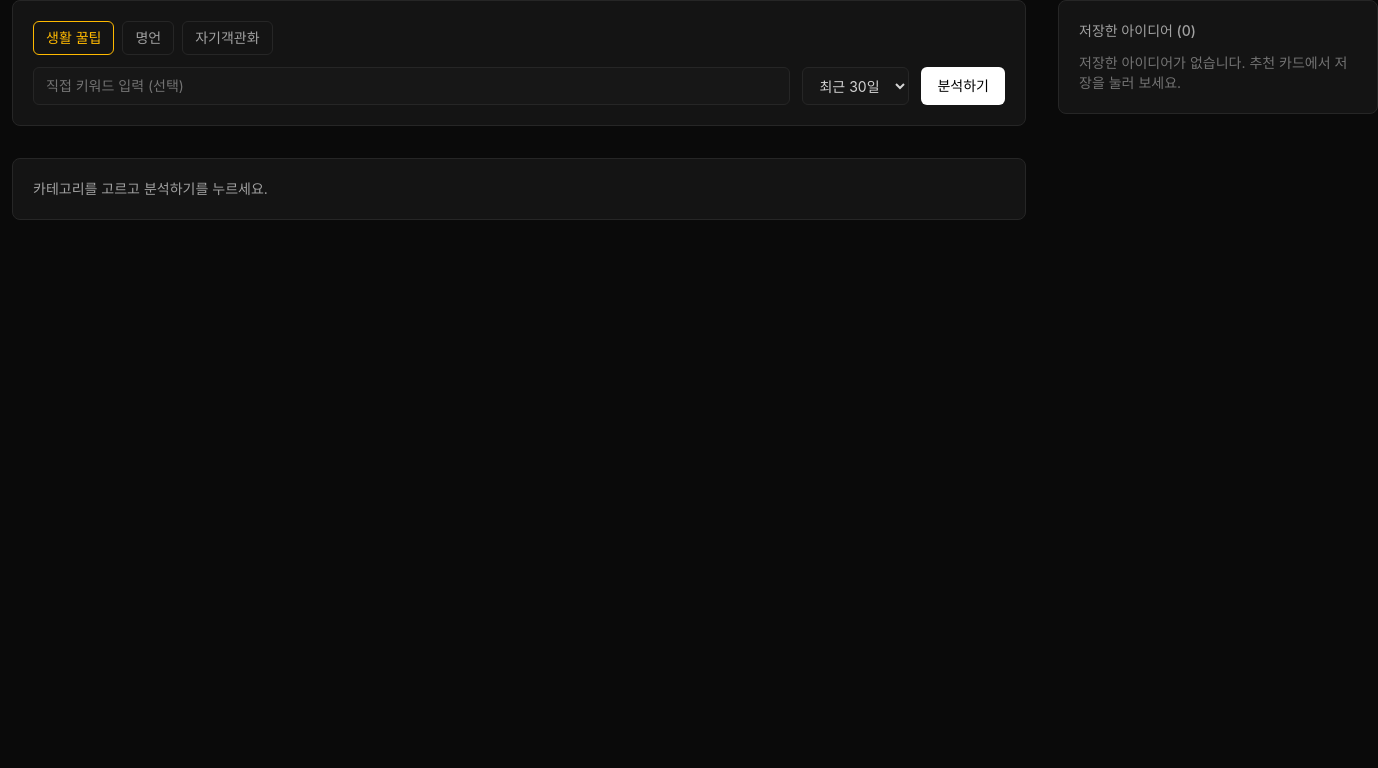
Test: Dashboard › 검색 › 직접 입력한 키워드는 q로 보낸다
The image size is (1378, 768).
Type " 아침루틴 " into the field labelled "직접 키워드" at (412, 86), box [33,67,790,105]
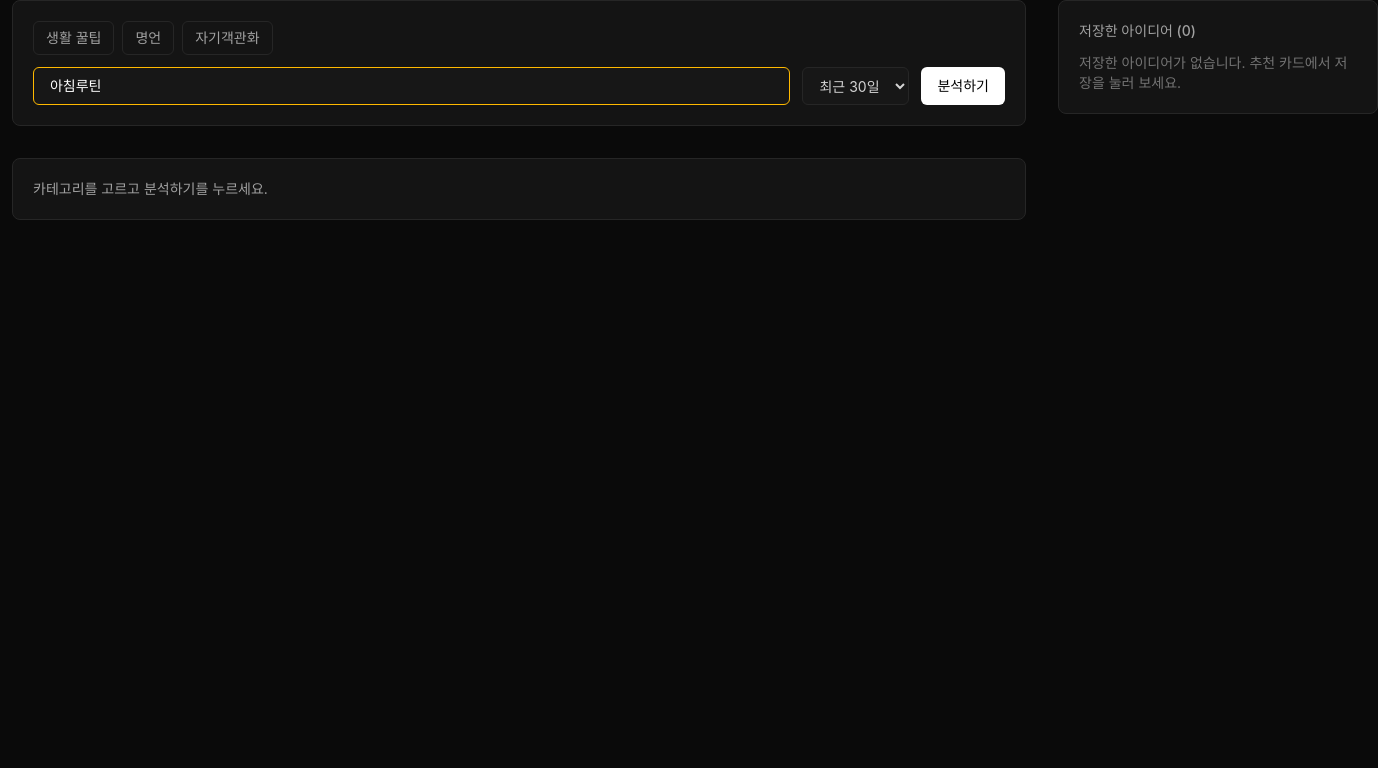
Select "최근 7일" in the dropdown named "기간" at (856, 86), box [802,67,910,105]
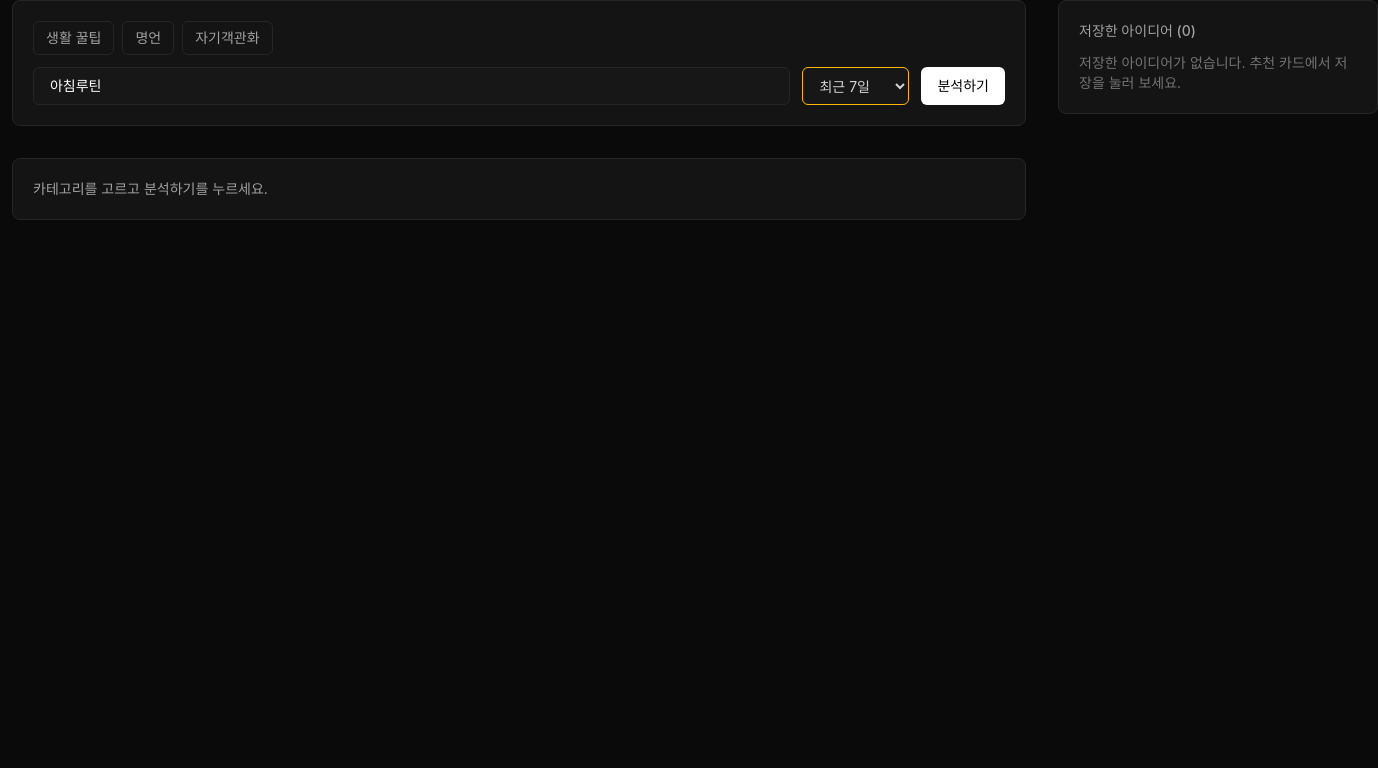
Click the button "분석하기" at (963, 86), box [922,67,1005,105]
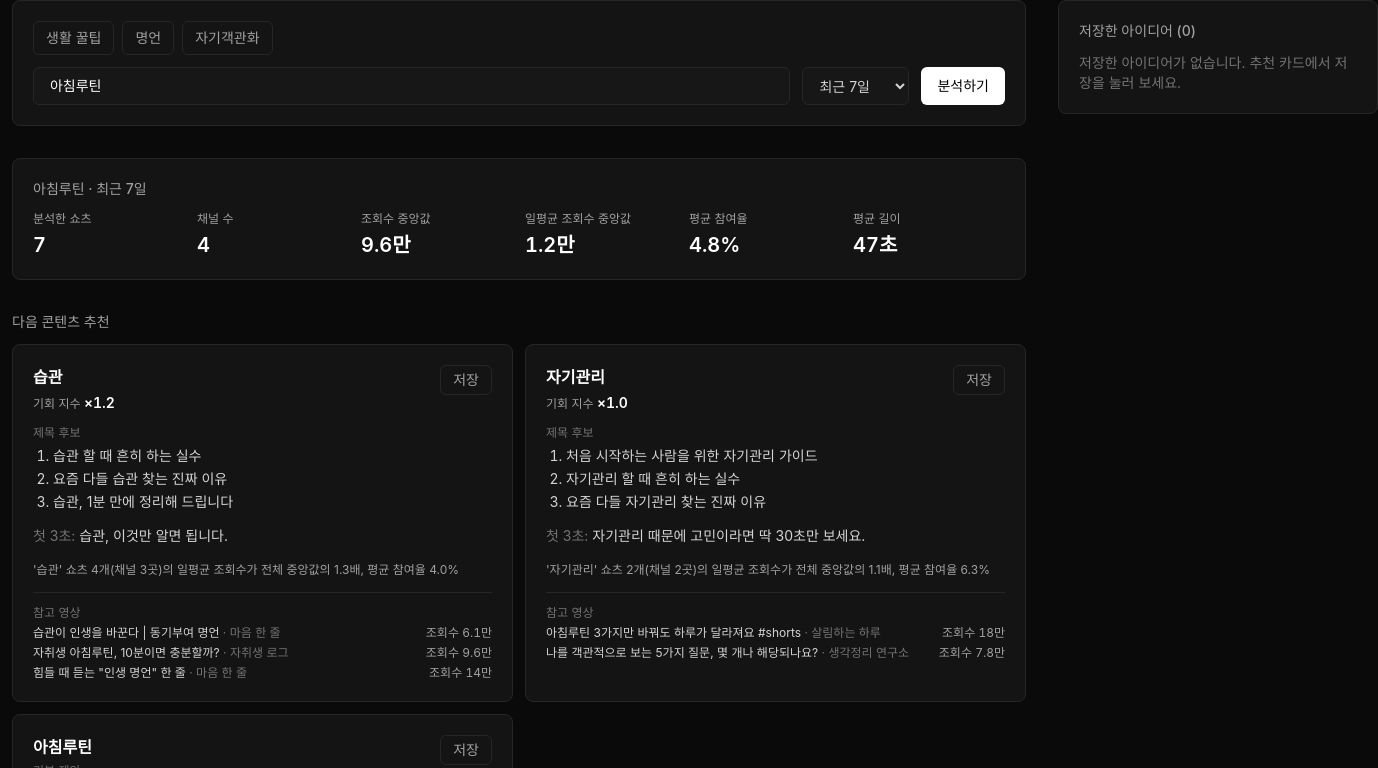
Expected: the heading "아침루틴" is shown, [33,734,92,758]
Expected: the heading "아침루틴 · 최근 7일" is shown, [33,180,147,197]
